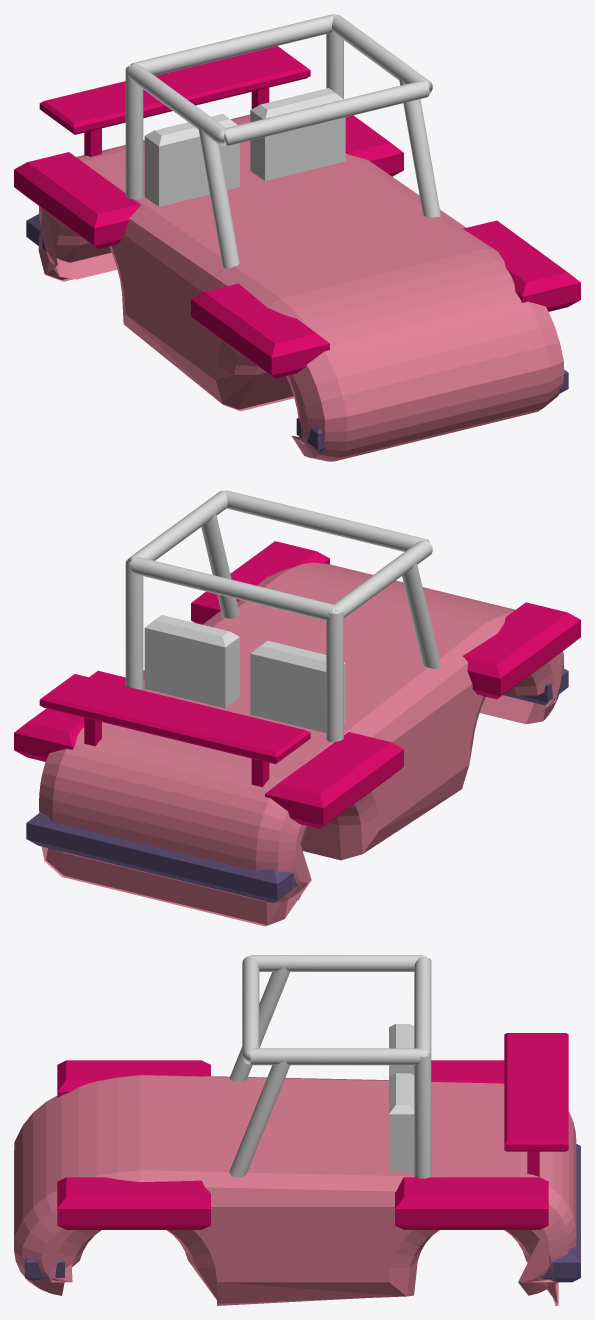
The model's file is carro_buggy.glb.
3 views of the same model, one above another, from view 1: azimuth 30°, elevation 25°; view 2: azimuth 150°, elevation 25°; view 3: azimuth 270°, elevation 25° (orthographic). The views are drawn at different scales.
Visible parts, largest first — view 1: carro_buggy_corpo; view 2: carro_buggy_corpo; view 3: carro_buggy_corpo.
Part boxes in pixels (box(x1,y1,x2,y2)): carro_buggy_corpo: box(14, 14, 580, 461); carro_buggy_corpo: box(14, 490, 580, 926); carro_buggy_corpo: box(14, 955, 580, 1305).
Bounding box in the file's own units: 2.22 × 1.84 × 3.69.
